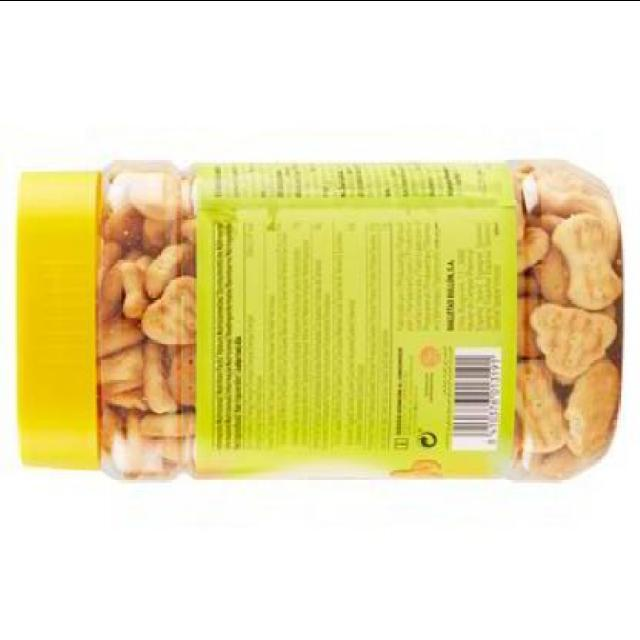Salatini: (8, 146, 624, 489)
